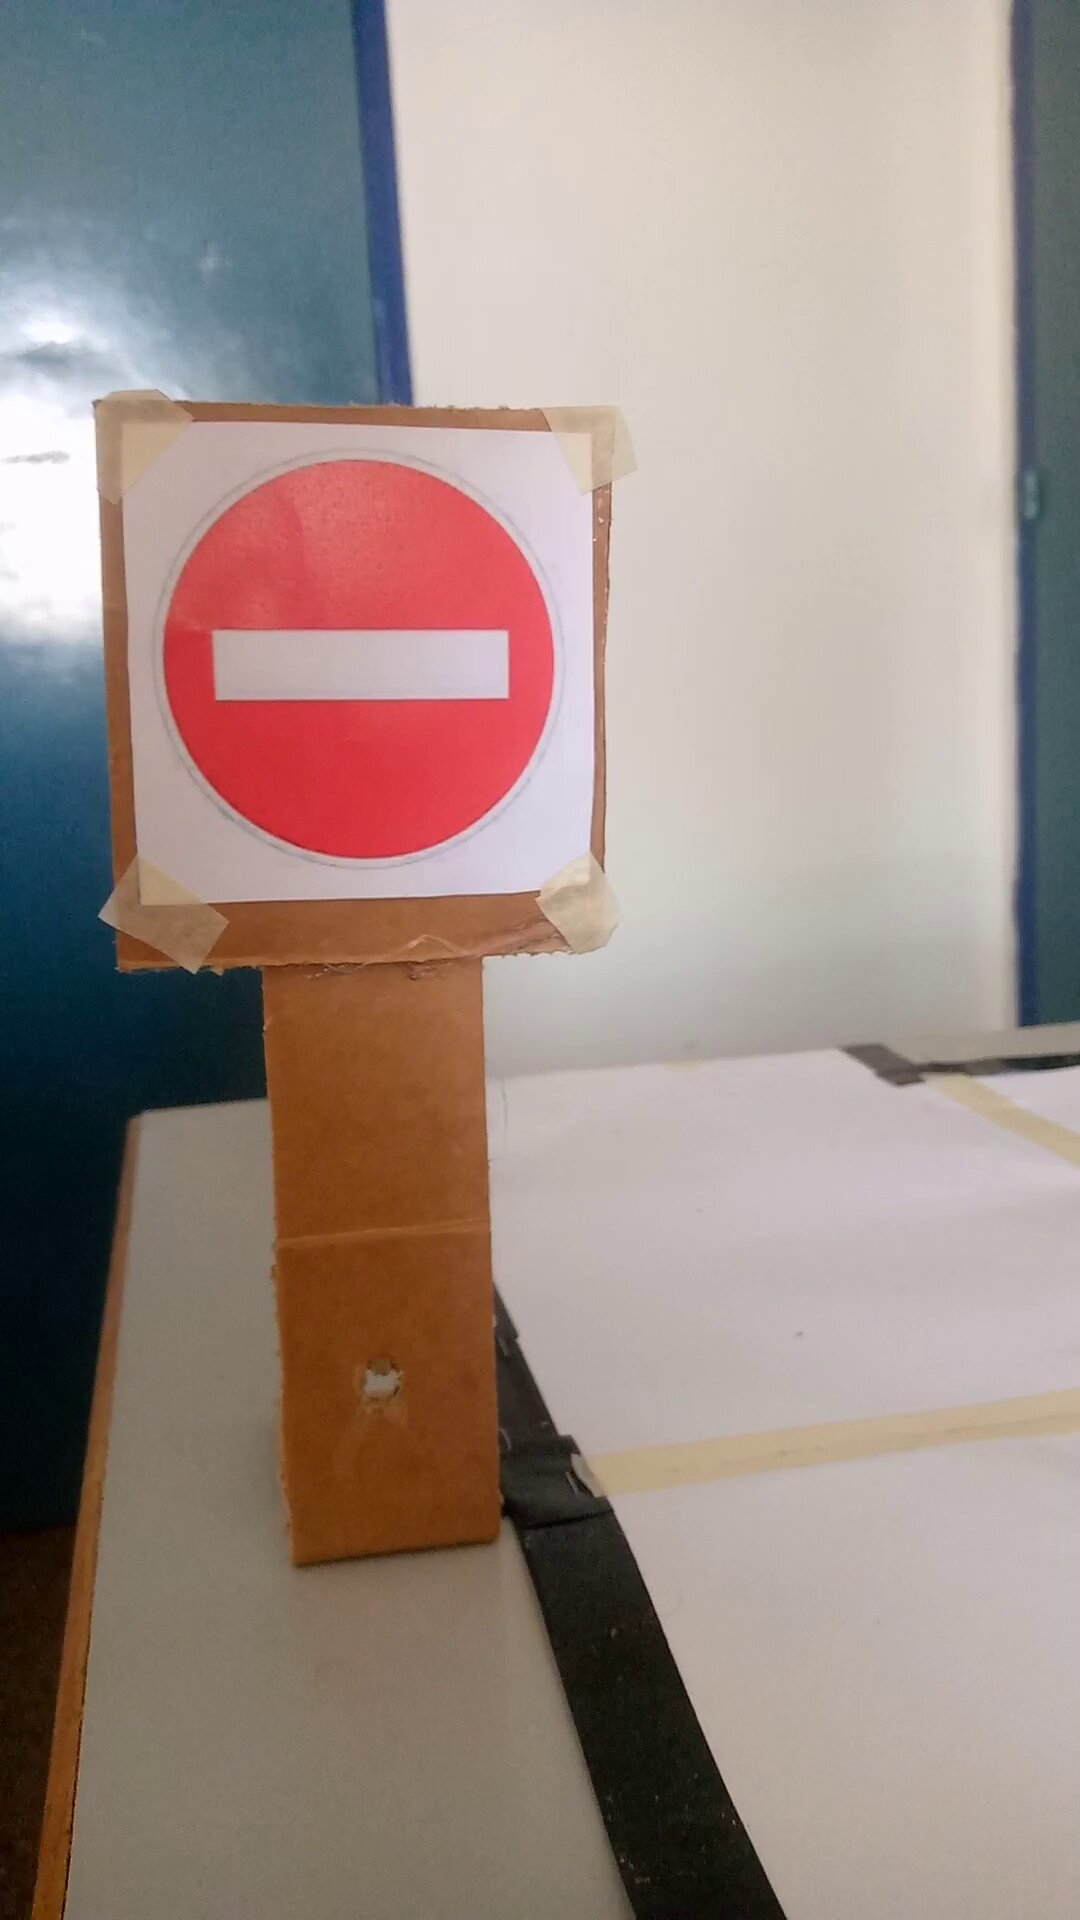panel010: (113, 417, 604, 899)
